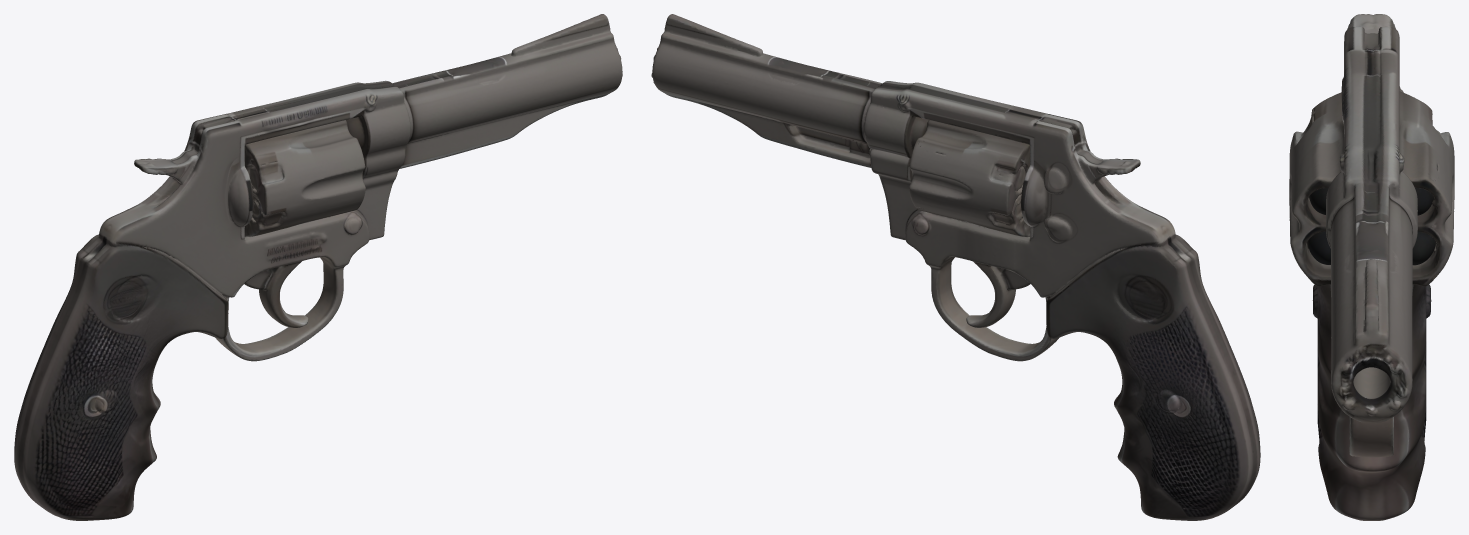
Rendered from rebolver.glb.
3 views of the same model, side by side, from view 1: azimuth 30°, elevation 25°; view 2: azimuth 150°, elevation 25°; view 3: azimuth 270°, elevation 25° (orthographic). The views are drawn at different scales.
Visible parts, largest first — view 1: tripo_node_883082a5-8c45-4dac-888b-caace0895512; view 2: tripo_node_883082a5-8c45-4dac-888b-caace0895512; view 3: tripo_node_883082a5-8c45-4dac-888b-caace0895512.
Part boxes in pixels (x1,y1,x2,y2): tripo_node_883082a5-8c45-4dac-888b-caace0895512: [14, 14, 622, 520]; tripo_node_883082a5-8c45-4dac-888b-caace0895512: [651, 14, 1260, 520]; tripo_node_883082a5-8c45-4dac-888b-caace0895512: [1289, 14, 1454, 520].
Size of the model in its own units: 1 by 0.6107 by 0.1587.
1 material, 1 textured.
